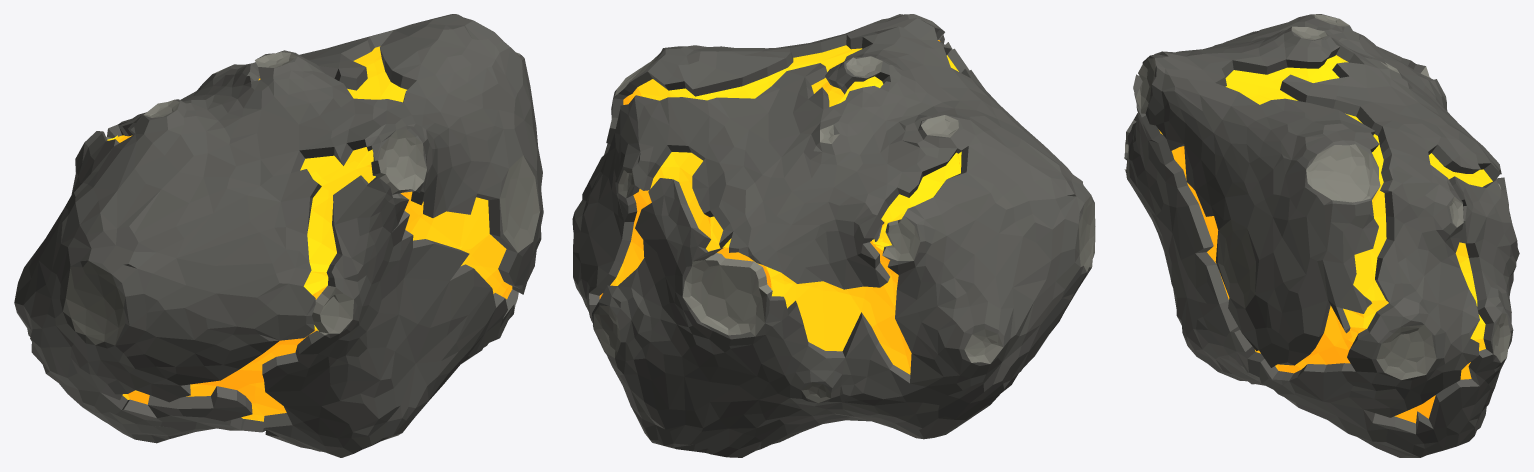
The model's file is Asteroid_1_Model.fbx.
3 renders of one model, left to right at view 1: azimuth 30°, elevation 25°; view 2: azimuth 150°, elevation 25°; view 3: azimuth 270°, elevation 25°, orthographic. The views are drawn at different scales.
Parts seen in each view (by area): view 1: Asteroid_1; view 2: Asteroid_1; view 3: Asteroid_1.
Part boxes in pixels (bbox=[...]): Asteroid_1: bbox=[14, 14, 543, 457]; Asteroid_1: bbox=[572, 14, 1095, 457]; Asteroid_1: bbox=[1124, 14, 1519, 457].
Bounding box in the file's own units: 2.53 × 1.98 × 1.93.
